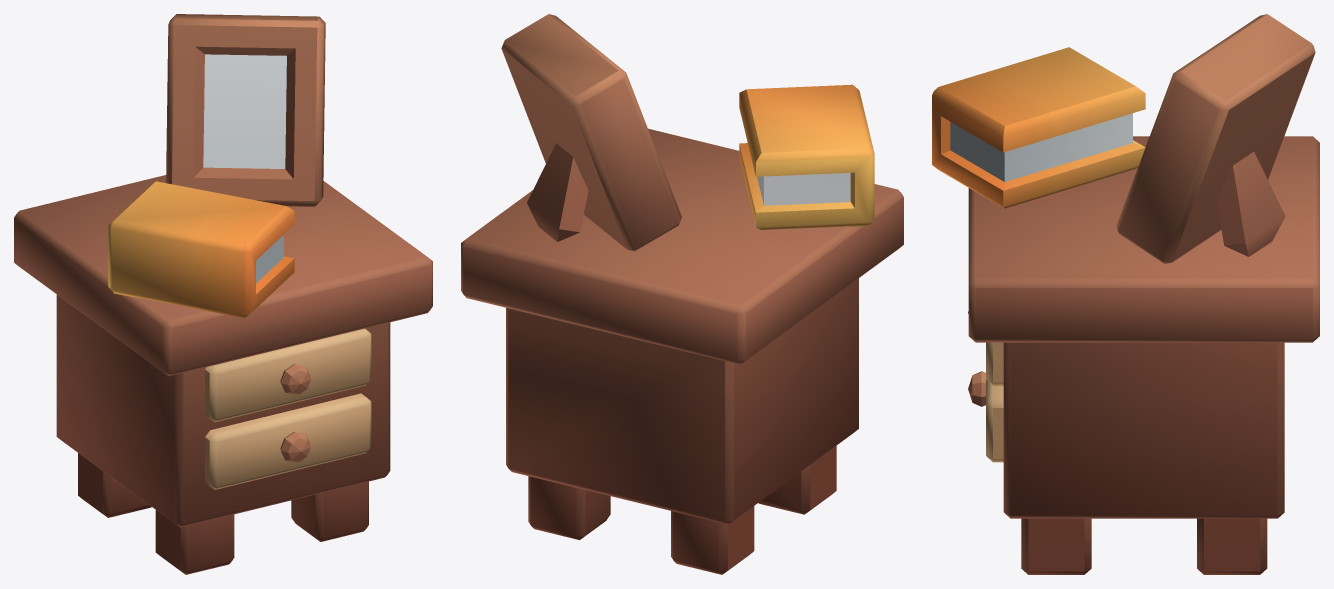
Rendered from kay-armarinho-enfeitado.gltf.
3 renders of one model, left to right at view 1: azimuth 30°, elevation 25°; view 2: azimuth 150°, elevation 25°; view 3: azimuth 270°, elevation 25°, orthographic. The views are drawn at different scales.
Visible parts, largest first — view 1: cabinet_small_decorated; view 2: cabinet_small_decorated; view 3: cabinet_small_decorated.
Boxes of the visible parts, x1,y1,x2,y2 form: cabinet_small_decorated: (14,14,432,574); cabinet_small_decorated: (461,14,903,574); cabinet_small_decorated: (932,14,1319,574).
Size of the model in its own units: 0.6809 by 1.05 by 0.7175.
1 material, 1 textured.
